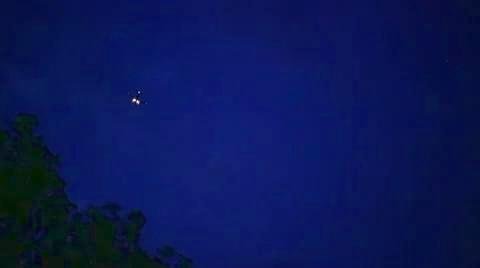Plane: (122, 84, 152, 111)
